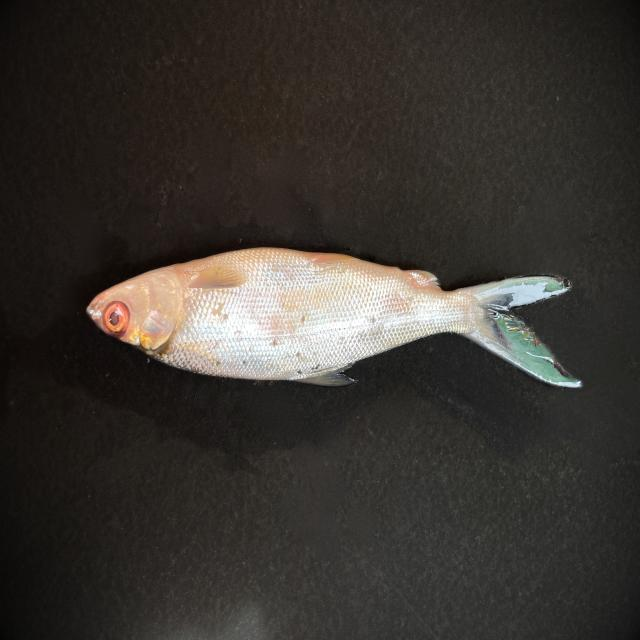620 g: (85, 246, 583, 389)
